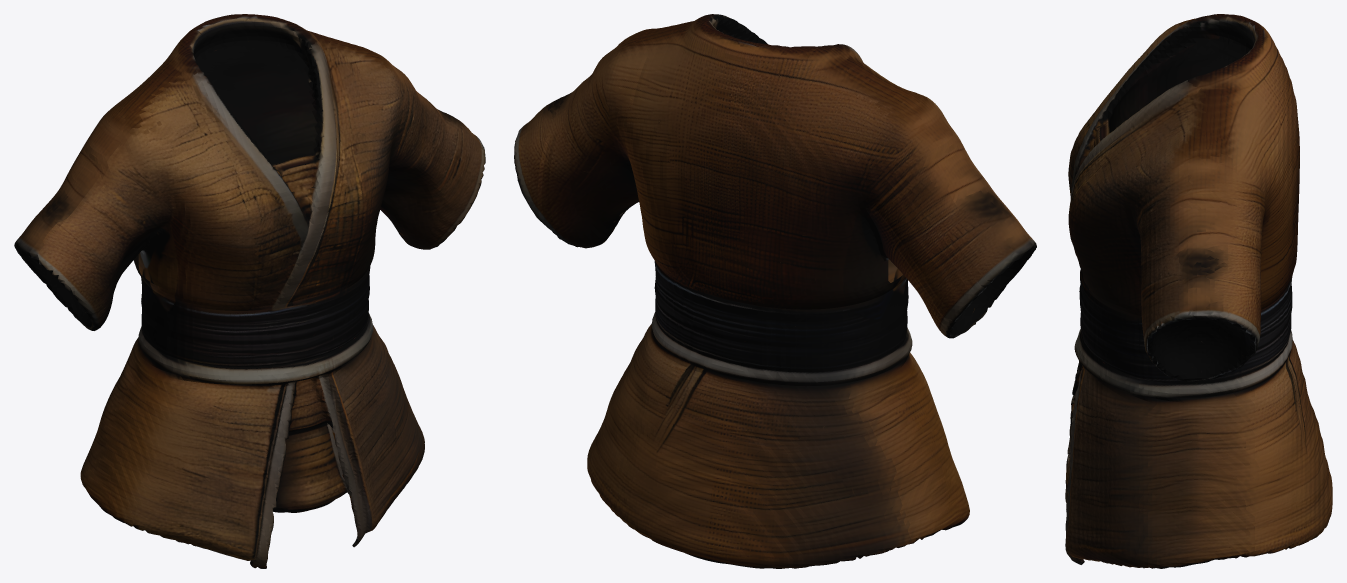
File: prop.glb
3 renders of one model, left to right at view 1: azimuth 30°, elevation 25°; view 2: azimuth 150°, elevation 25°; view 3: azimuth 270°, elevation 25°, orthographic. The views are drawn at different scales.
Parts seen in each view (by area): view 1: geometry_0; view 2: geometry_0; view 3: geometry_0.
Boxes of the visible parts, <box> form: geometry_0: <box>14,14,485,568</box>; geometry_0: <box>514,14,1036,568</box>; geometry_0: <box>1065,14,1332,568</box>.
Bounding box in the file's own units: 1.96 × 1.95 × 0.9402.
1 material, 1 textured.
